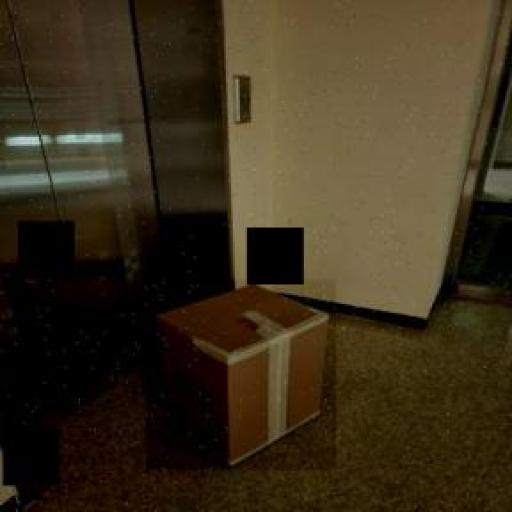box: (146, 280, 336, 470)
